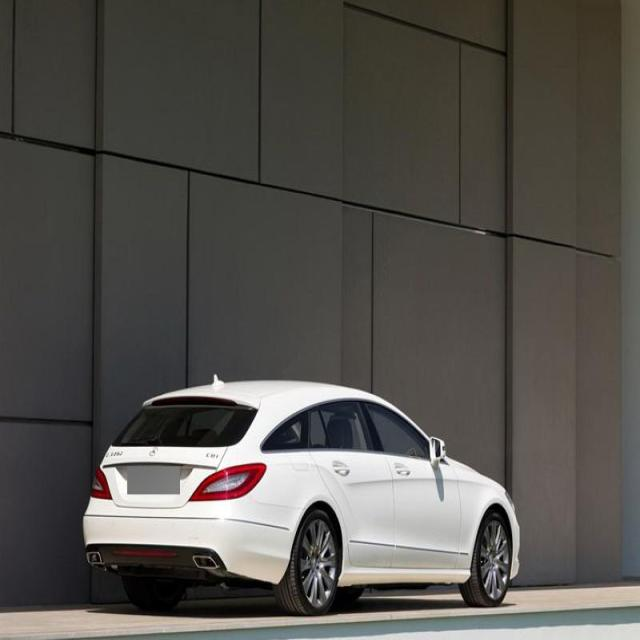back_glass: (110, 402, 258, 447)
back_left_side_light: (88, 465, 115, 503)
back_right_side_light: (189, 460, 267, 502)
door: (307, 399, 398, 577)
front_right_side_door: (363, 395, 462, 577)
front_right_side_mirror: (428, 433, 447, 468)
rear_bumper: (81, 511, 296, 586)
wheel: (284, 508, 338, 614), (462, 510, 512, 605)
